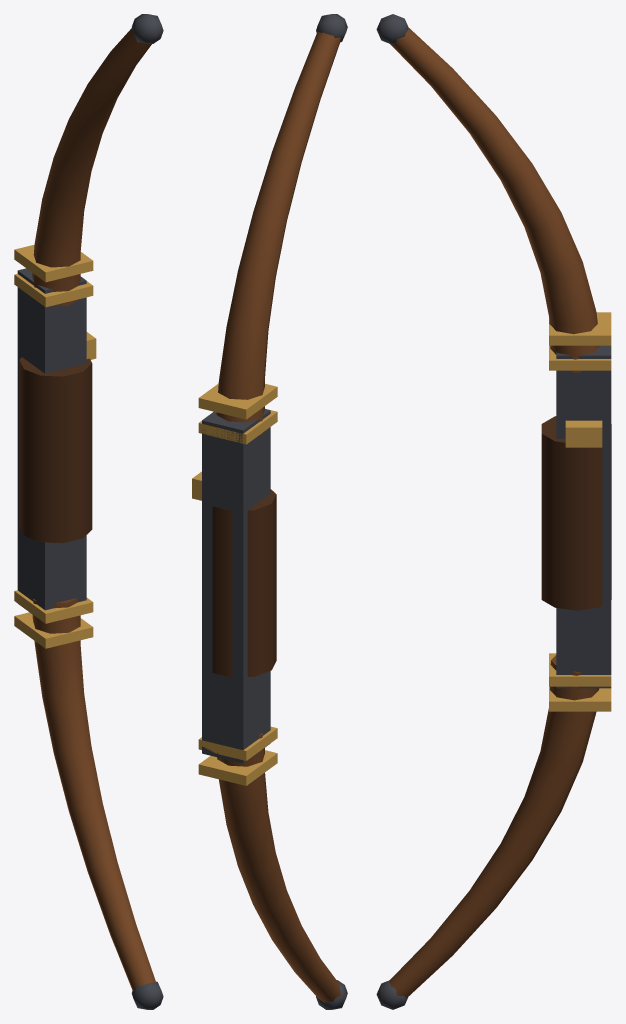
Rendered from shortbow.glb.
3 views of the same model, side by side, from view 1: azimuth 30°, elevation 25°; view 2: azimuth 150°, elevation 25°; view 3: azimuth 270°, elevation 25° (orthographic).
Visible parts, largest first — view 1: Shortbow_Wood, Shortbow_Leather, Shortbow_Darksteel, Shortbow_Brass; view 2: Shortbow_Wood, Shortbow_Darksteel, Shortbow_Leather, Shortbow_Brass; view 3: Shortbow_Wood, Shortbow_Leather, Shortbow_Darksteel, Shortbow_Brass.
Part boxes in pixels (left/top/right/bottom): Shortbow_Wood: left=32, top=28, right=155, bottom=991; Shortbow_Leather: left=19, top=357, right=92, bottom=543; Shortbow_Darksteel: left=17, top=14, right=163, bottom=1009; Shortbow_Brass: left=14, top=244, right=96, bottom=648; Shortbow_Wood: left=216, top=32, right=340, bottom=1002; Shortbow_Darksteel: left=202, top=14, right=347, bottom=1009; Shortbow_Leather: left=212, top=489, right=276, bottom=677; Shortbow_Brass: left=192, top=383, right=277, bottom=785; Shortbow_Wood: left=389, top=28, right=599, bottom=997; Shortbow_Leather: left=541, top=416, right=611, bottom=610; Shortbow_Darksteel: left=376, top=14, right=611, bottom=1009; Shortbow_Brass: left=549, top=312, right=611, bottom=711.
Bounding box in the file's own units: 0.042 × 0.598 × 0.128.
